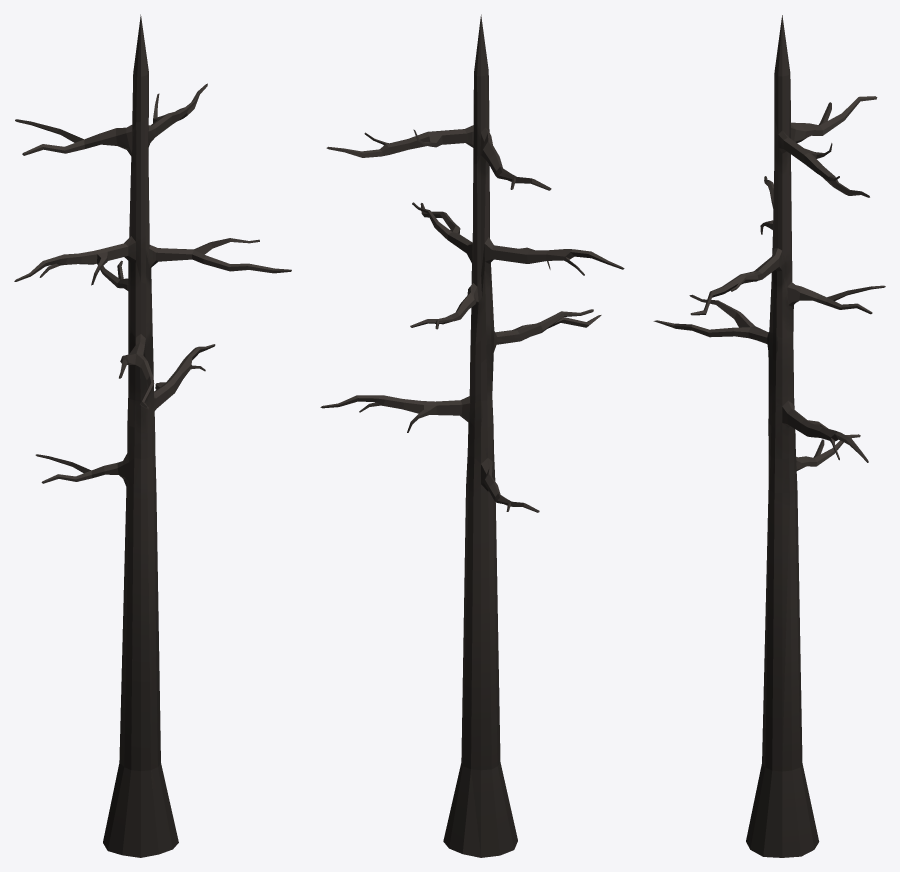
Rendered from tree burned.fbx.
The picture shows the model from 3 angles, left to right: view 1: azimuth 30°, elevation 25°; view 2: azimuth 150°, elevation 25°; view 3: azimuth 270°, elevation 25°; orthographic projection.
Parts seen in each view (by area): view 1: Cylinder; view 2: Cylinder; view 3: Cylinder.
Boxes of the visible parts, <box> form: Cylinder: <box>14,14,291,857</box>; Cylinder: <box>320,14,624,857</box>; Cylinder: <box>653,15,885,857</box>.
Size of the model in its own units: 12 by 9.55 by 37.54.
Materials: 1 (1 with a texture image).
